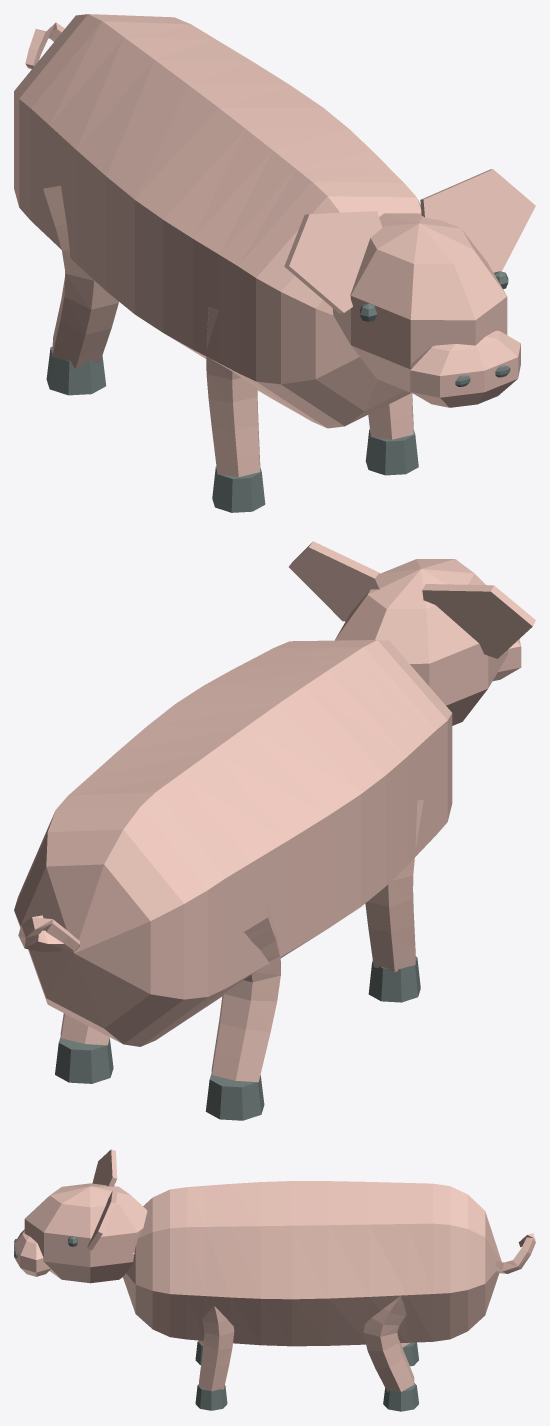
File: farm-livestock-and-barnyard-sow-794c89dd__5014.glb
The picture shows the model from 3 angles, top to bottom: view 1: azimuth 30°, elevation 25°; view 2: azimuth 150°, elevation 25°; view 3: azimuth 270°, elevation 25°; orthographic projection. The views are drawn at different scales.
Visible parts, largest first — view 1: sow; view 2: sow; view 3: sow.
Part boxes in pixels (left/top/right/bottom): sow: left=14, top=14, right=535, bottom=512; sow: left=14, top=541, right=535, bottom=1120; sow: left=14, top=1149, right=535, bottom=1411.
Size of the model in its own units: 0.6426 by 0.8747 by 2.
